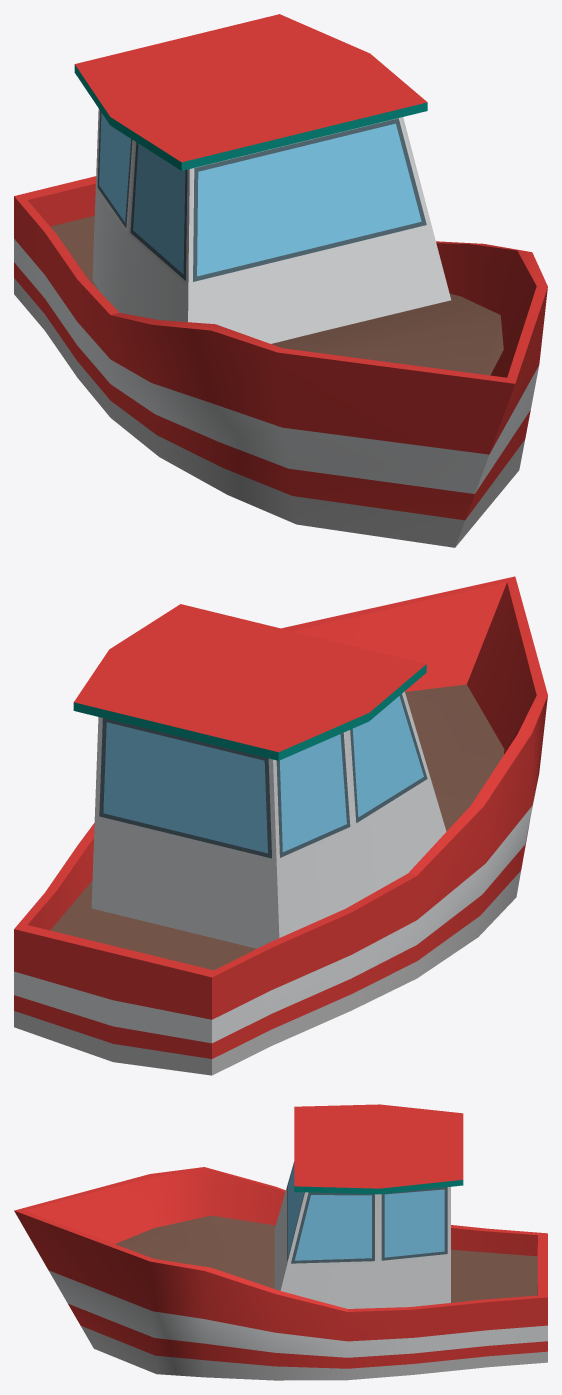
File: ship.fbx
3 views of the same model, one above another, from view 1: azimuth 30°, elevation 25°; view 2: azimuth 150°, elevation 25°; view 3: azimuth 270°, elevation 25° (orthographic). The views are drawn at different scales.
Visible parts, largest first — view 1: ship; view 2: ship; view 3: ship.
Part boxes in pixels (x1,y1,x2,y2): ship: (14,14,547,547); ship: (14,576,547,1075); ship: (14,1104,547,1380).
Size of the model in its own units: 72.17 by 62.89 by 150.
